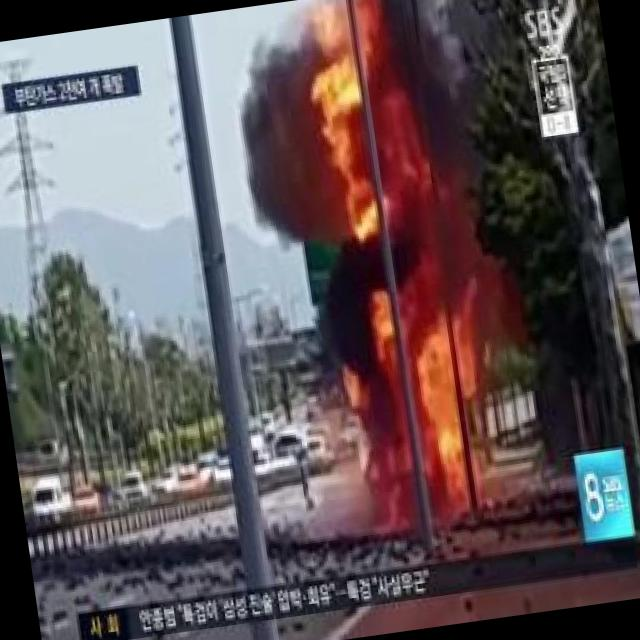Fire: (368, 260, 506, 520), (304, 16, 434, 231)
